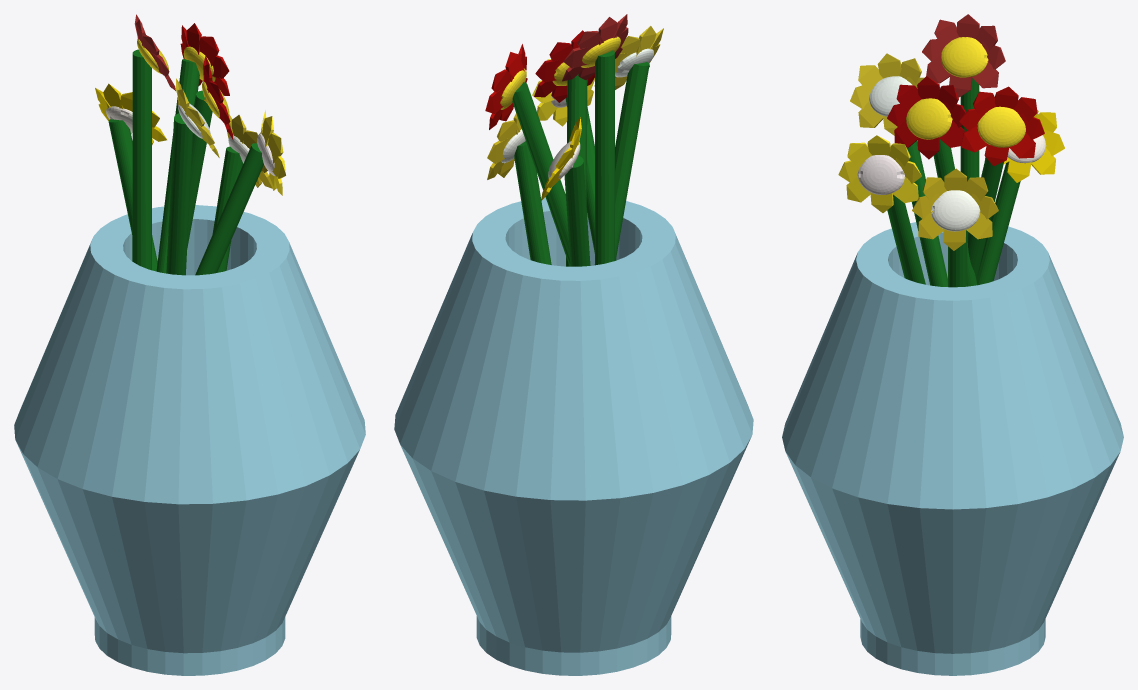
The model's file is Vase.fbx.
3 views of the same model, side by side, from view 1: azimuth 30°, elevation 25°; view 2: azimuth 150°, elevation 25°; view 3: azimuth 270°, elevation 25° (orthographic). The views are drawn at different scales.
Visible parts, largest first — view 1: Cylinder; view 2: Cylinder; view 3: Cylinder.
Boxes of the visible parts, x1=… form: Cylinder: x1=14, y1=14, x2=365, y2=675; Cylinder: x1=394, y1=14, x2=753, y2=675; Cylinder: x1=782, y1=14, x2=1123, y2=675.
Size of the model in its own units: 89.89 by 89.89 by 175.
